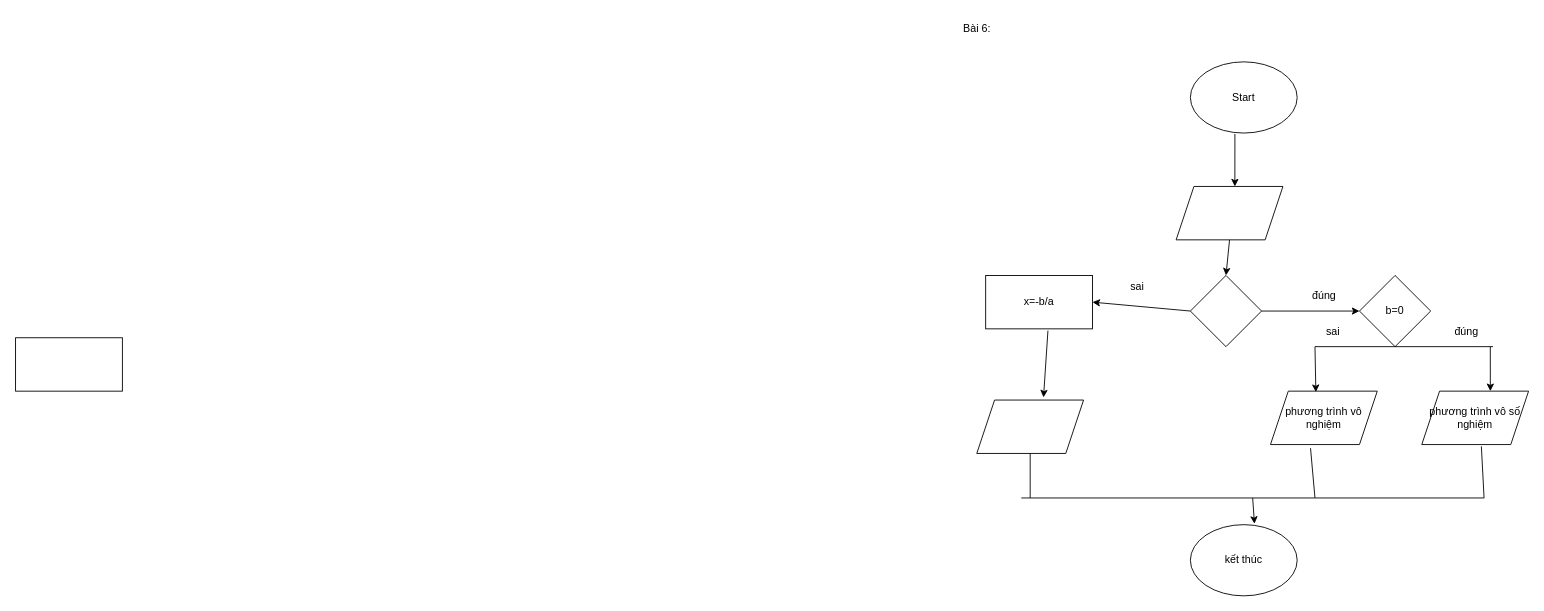
Some shapes in this 1544 by 611 pixel diagram are drawn without their labels. Each missing label, with the centre of its shape:
a=0: [1225,311]
nhập a và b: [1229,213]
phương trình có nghiệm x: [1030,426]
